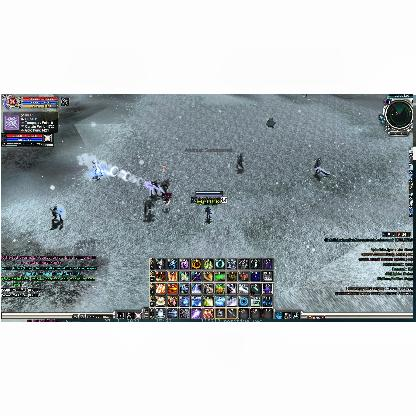caliana: (313, 158, 329, 178), (48, 204, 62, 224), (142, 200, 154, 216), (160, 177, 172, 193), (234, 154, 245, 170), (92, 160, 102, 176)
